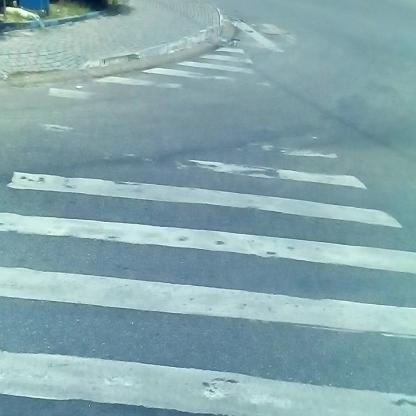crosswalk: (36, 47, 362, 416)
sidewalk: (3, 8, 233, 91)
